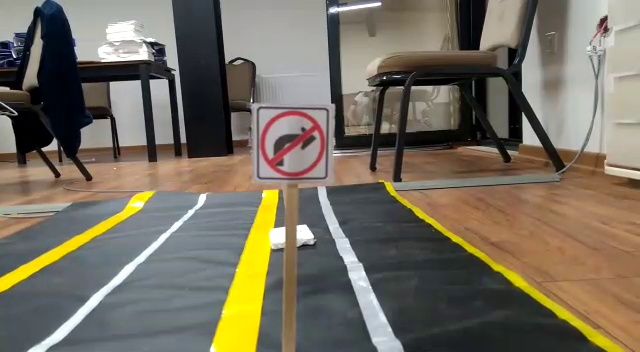sola_donulmez: (252, 104, 332, 181)
